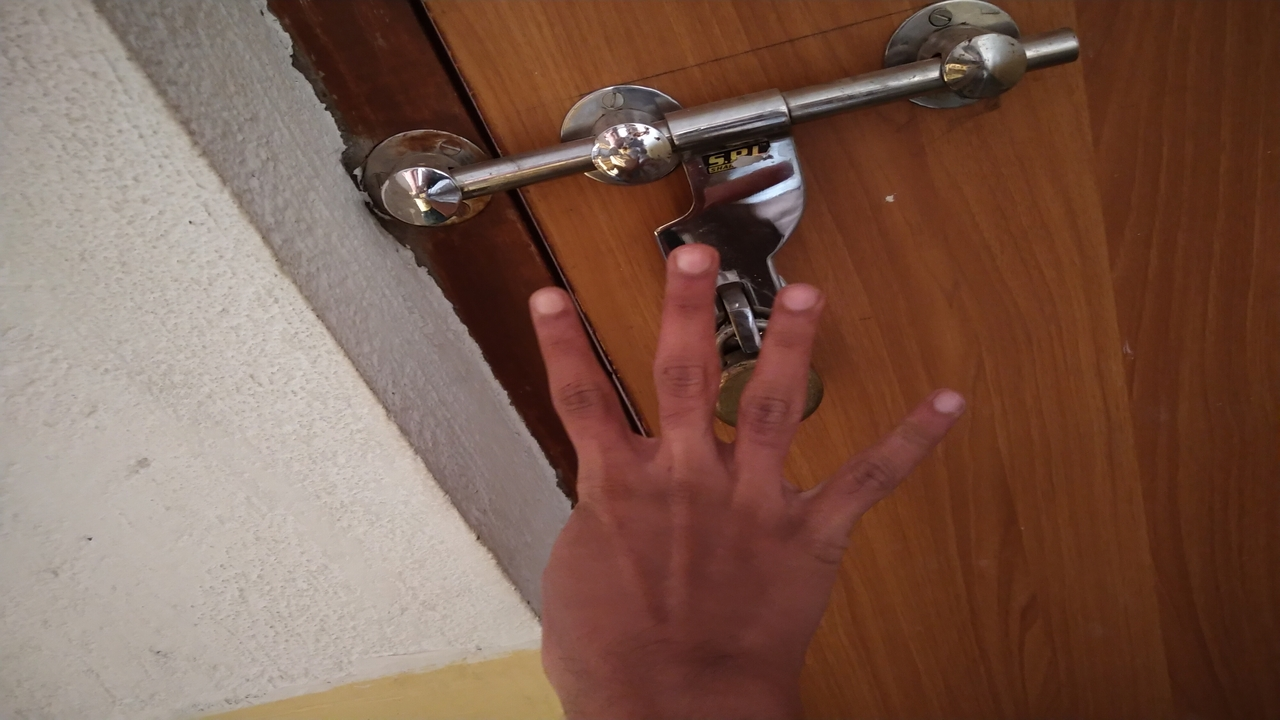fingertip: (914, 378, 982, 436), (772, 270, 832, 328), (662, 234, 718, 294), (520, 282, 576, 332)
